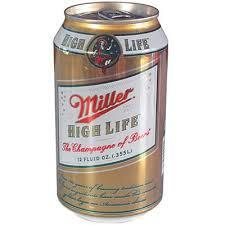beer: (52, 4, 166, 218)
